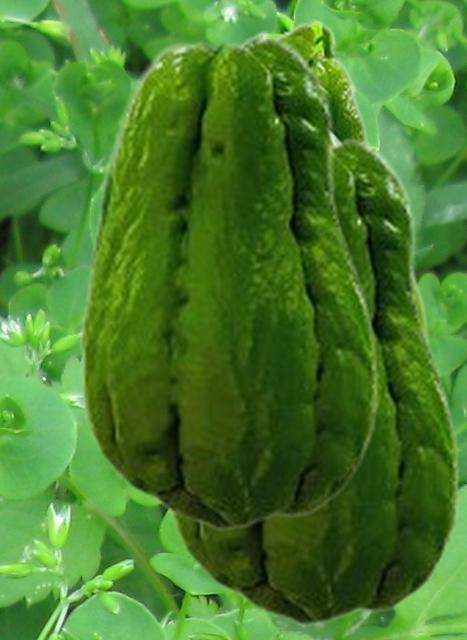sayote: (80, 34, 378, 531), (165, 136, 459, 626), (240, 19, 429, 340)
